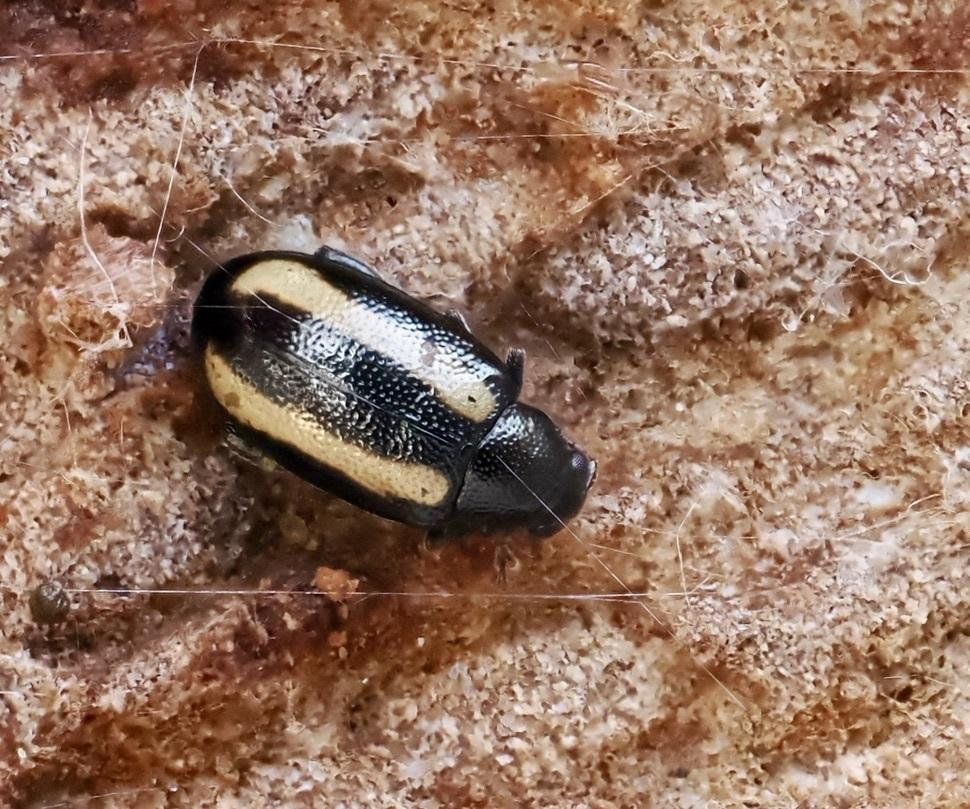flea_beetle: (136, 152, 635, 605)
